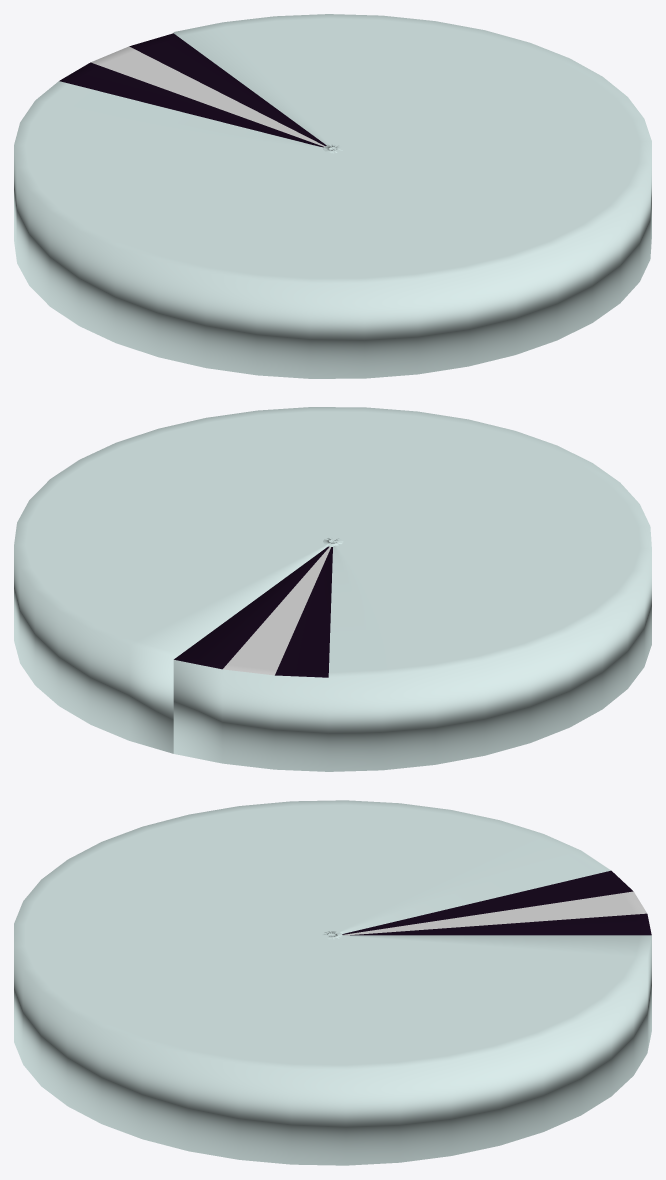
Rendered from secondPrototypePfinal.fbx.
3 views of the same model, one above another, from view 1: azimuth 30°, elevation 25°; view 2: azimuth 150°, elevation 25°; view 3: azimuth 270°, elevation 25° (orthographic).
Parts seen in each view (by area): view 1: Cube; view 2: Cube; view 3: Cube.
Boxes of the visible parts, bbox=[...] form: Cube: bbox=[14, 14, 651, 378]; Cube: bbox=[14, 407, 651, 771]; Cube: bbox=[14, 800, 651, 1165].
Bounding box in the file's own units: 6087 × 1004 × 6082.
